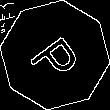P_NE: (24, 25, 86, 85)
